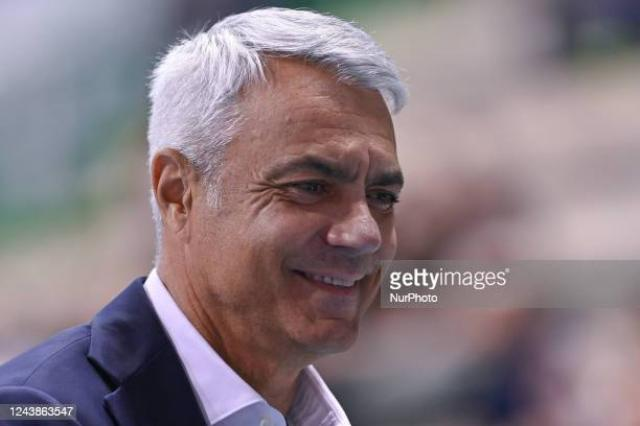chin: (316, 311, 348, 325)
crows_feet: (253, 177, 279, 211)
forehead: (315, 120, 353, 138), (371, 126, 392, 141)
frown_line: (350, 154, 370, 186)
